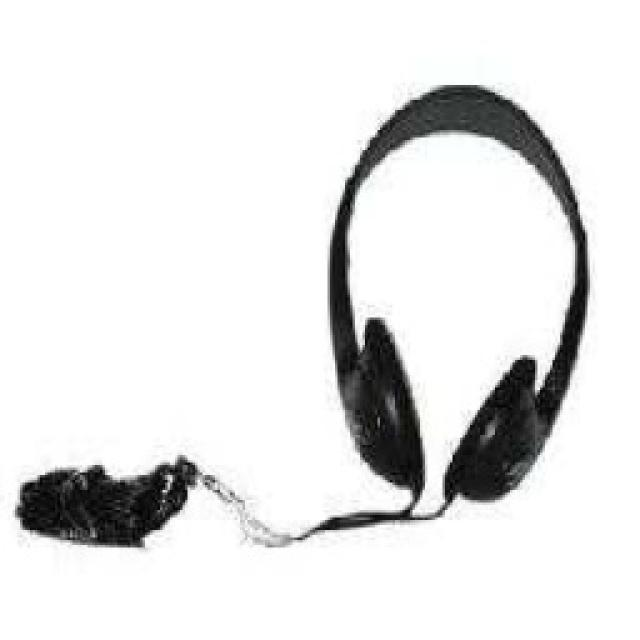kulaklik: (311, 76, 604, 512)
